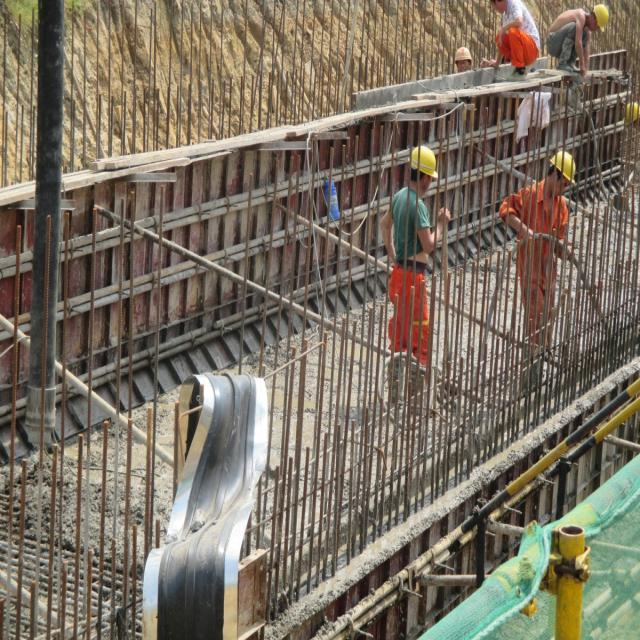truck: (25, 0, 64, 443)
